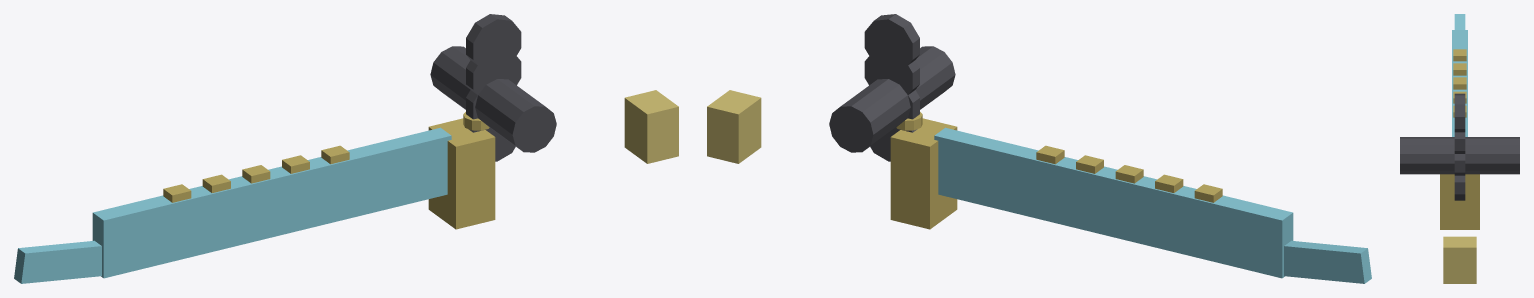
Rendered from buz_bicak.glb.
3 views of the same model, side by side, from view 1: azimuth 30°, elevation 25°; view 2: azimuth 150°, elevation 25°; view 3: azimuth 270°, elevation 25° (orthographic). The views are drawn at different scales.
Visible parts, largest first — view 1: geometry_0; view 2: geometry_0; view 3: geometry_0.
Boxes of the visible parts, x1=… form: geometry_0: x1=14, y1=14, x2=678, y2=283; geometry_0: x1=707, y1=14, x2=1371, y2=283; geometry_0: x1=1400, y1=14, x2=1519, y2=283.
Bounding box in the file's own units: 0.411 × 0.115 × 0.09.
